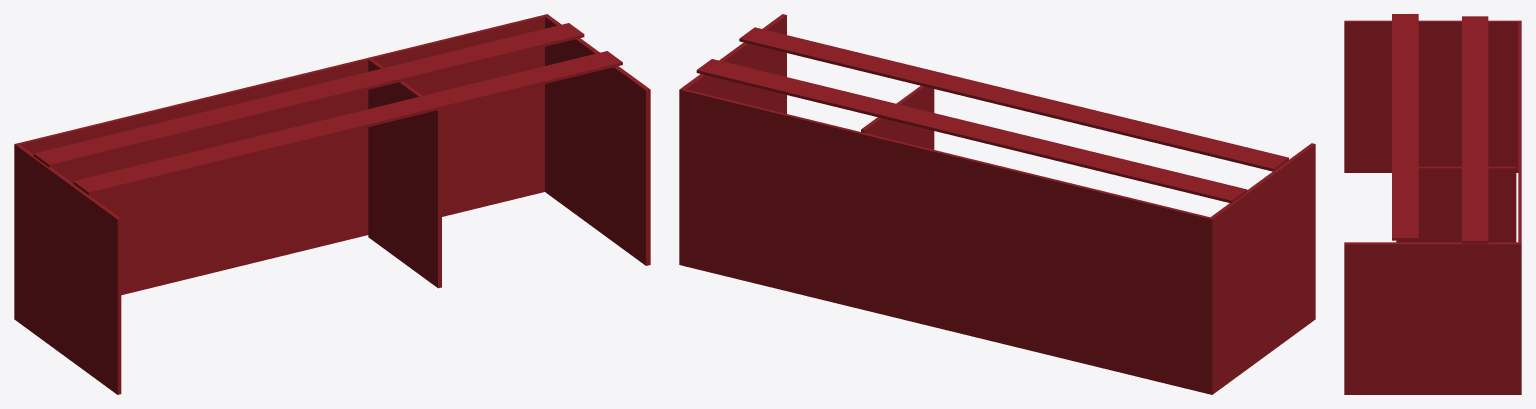
File: tinker.obj
The picture shows the model from 3 angles, left to right: view 1: azimuth 30°, elevation 25°; view 2: azimuth 150°, elevation 25°; view 3: azimuth 270°, elevation 25°; orthographic projection. The views are drawn at different scales.
Parts seen in each view (by area): view 1: obj_0; view 2: obj_0; view 3: obj_0.
Boxes of the visible parts, <box> form: obj_0: <box>14,14,650,394</box>; obj_0: <box>679,14,1315,394</box>; obj_0: <box>1344,14,1521,394</box>.
Bounding box in the file's own units: 480 × 157 × 160.
